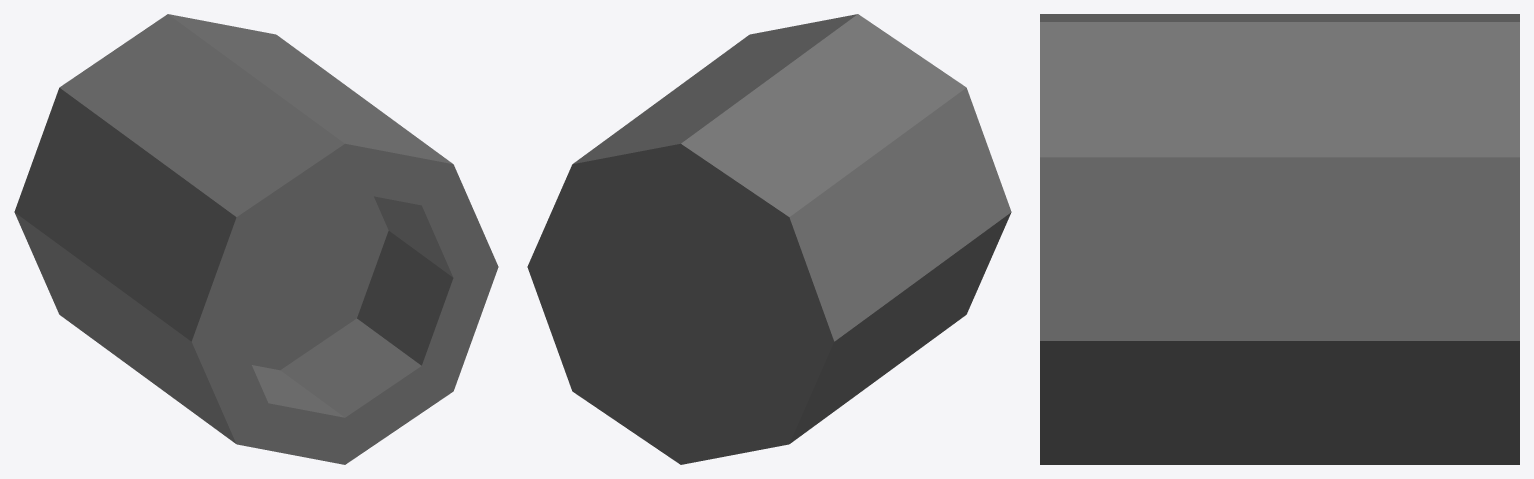
The model's file is PerdulkaShip1.fbx.
The picture shows the model from 3 angles, left to right: view 1: azimuth 30°, elevation 25°; view 2: azimuth 150°, elevation 25°; view 3: azimuth 270°, elevation 25°; orthographic projection. The views are drawn at different scales.
Parts seen in each view (by area): view 1: Spaceship_FernandoTheFlamingo.004; view 2: Spaceship_FernandoTheFlamingo.004; view 3: Spaceship_FernandoTheFlamingo.004.
Boxes of the visible parts, bbox=[...] form: Spaceship_FernandoTheFlamingo.004: bbox=[14, 14, 498, 464]; Spaceship_FernandoTheFlamingo.004: bbox=[527, 14, 1011, 464]; Spaceship_FernandoTheFlamingo.004: bbox=[1040, 14, 1519, 464].
Bounding box in the file's own units: 26.14 × 26.14 × 26.14.
Materials: 1 (1 with a texture image).
